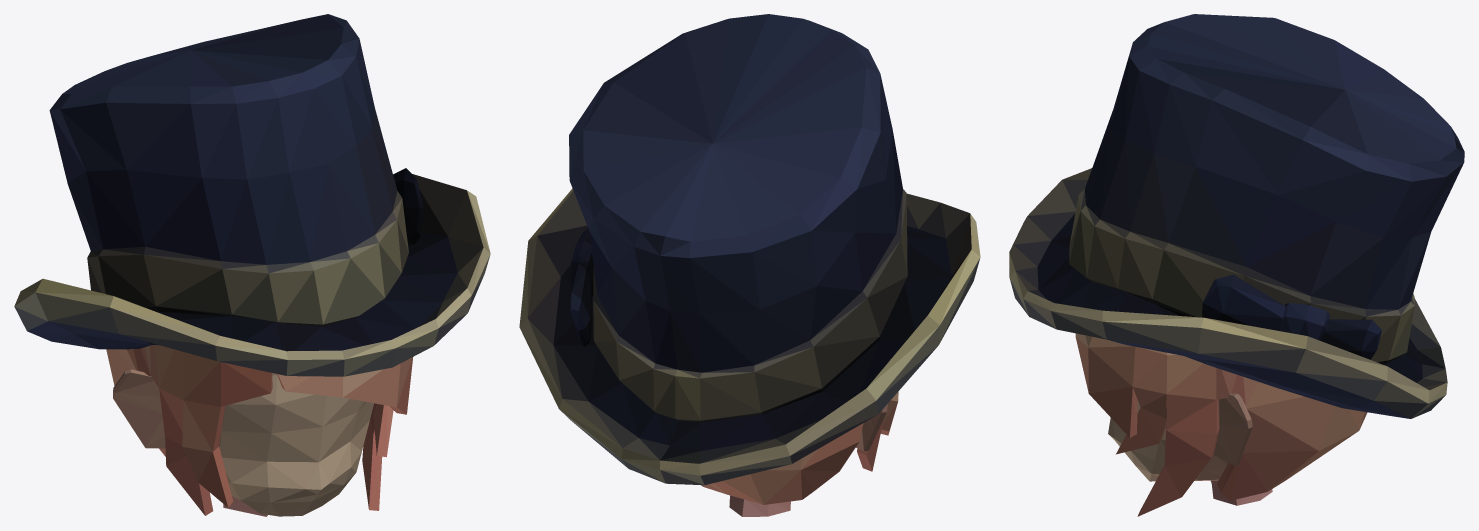
File: helm_lightskin_ponytail_blonde_tophat.fbx
3 views of the same model, side by side, from view 1: azimuth 30°, elevation 25°; view 2: azimuth 150°, elevation 25°; view 3: azimuth 270°, elevation 25° (orthographic). The views are drawn at different scales.
Visible parts, largest first — view 1: helm_lightskin_ponytail_blonde_tophat; view 2: helm_lightskin_ponytail_blonde_tophat; view 3: helm_lightskin_ponytail_blonde_tophat.
Part boxes in pixels (bbox=[...]): helm_lightskin_ponytail_blonde_tophat: bbox=[14, 14, 490, 516]; helm_lightskin_ponytail_blonde_tophat: bbox=[519, 14, 980, 516]; helm_lightskin_ponytail_blonde_tophat: bbox=[1009, 14, 1464, 516].
Size of the model in its own units: 1.67 by 1.86 by 1.69.
